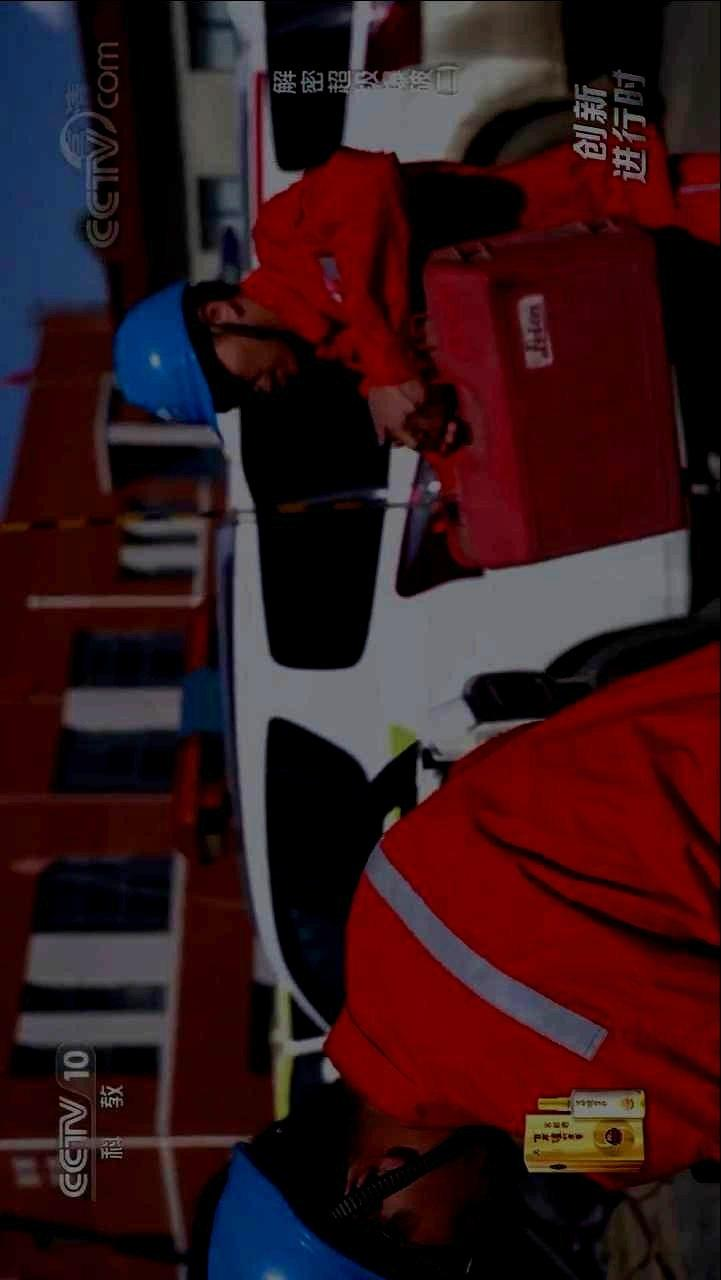helmet: (206, 1078, 444, 1280), (114, 277, 299, 439)
